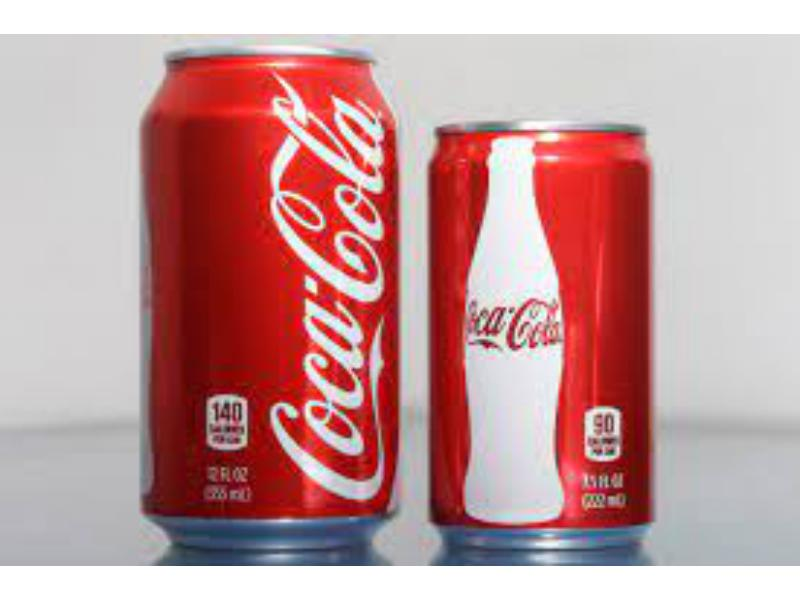can: (116, 25, 414, 564), (425, 95, 662, 567)
